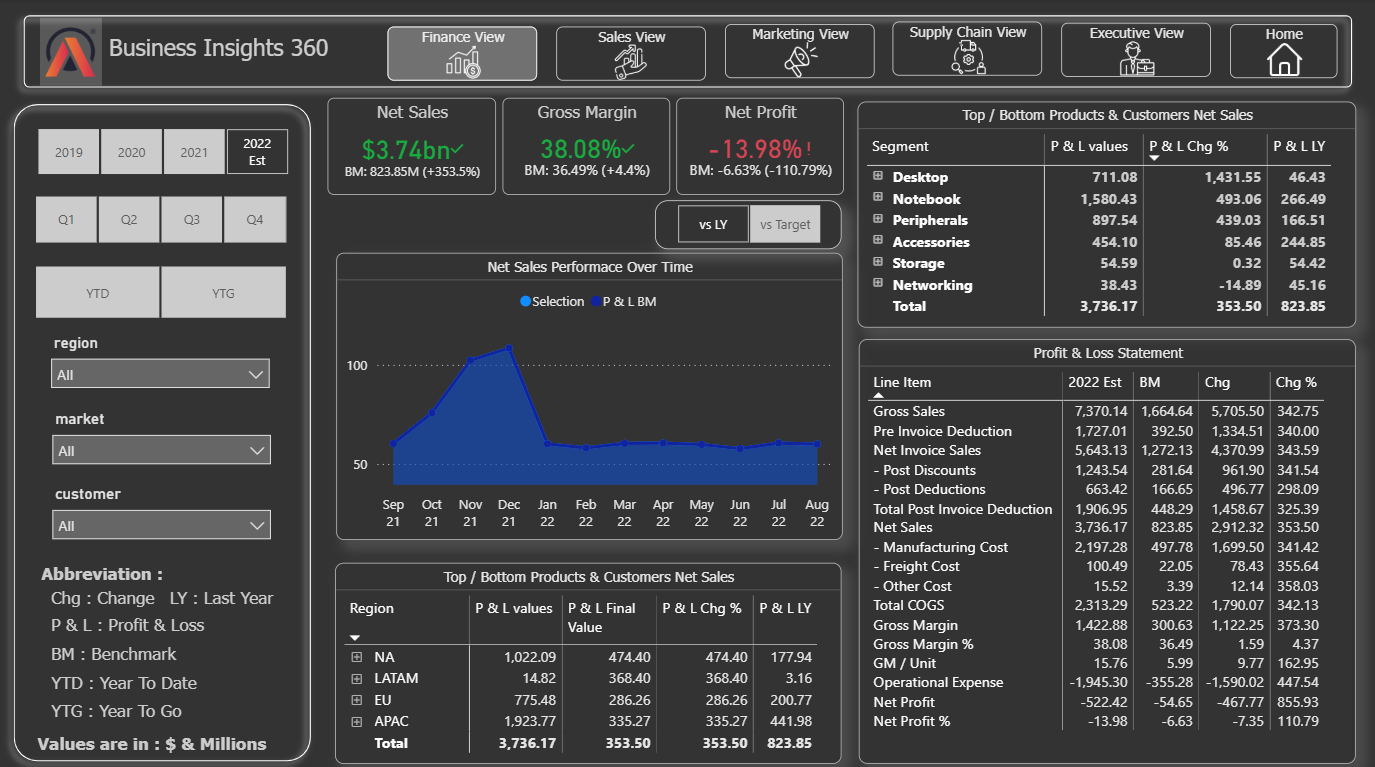

The page's visual inventory and layout, read from the dashboard file:
{"tool":"powerbi","page":{"name":"Finance View","canvas":[1280,720],"ordinal":2},"visuals":[{"type":"shape","box":[0,82.6,301.2,637.2],"z":0},{"type":"pivotTable","title":"Profit & Loss Statement","fields":{"Rows":["P & L Rows.Line Item"],"Columns":["P & L Columns.Col Header"],"Values":["Key Measures.P & L Final Value"]},"box":[798.8,316.3,462.8,395.3],"z":1000},{"type":"slicer","fields":{"Values":["fiscal_year.fy_desc"]},"box":[12.3,114.2,275.8,53.5],"z":2000},{"type":"slicer","fields":{"Values":["dim_date.quarters"]},"box":[11,176.6,275.8,56.3],"z":3000},{"type":"slicer","fields":{"Values":["dim_date.ytd_ytg"]},"box":[11,241.8,275.8,61.7],"z":4000},{"type":"areaChart","fields":{"Category":["dim_date.date"],"Y":["Key Measures.P & L LY","Key Measures.P & L BM"]},"box":[312.8,236,470.9,267.4],"z":5000},{"type":"pivotTable","title":"Top / Bottom Products & Customers Net Sales","fields":{"Rows":["dim_market.region","dim_market.market","dim_customer.customer"],"Values":["Key Measures.P & L values","Key Measures.P & L Final Value","Key Measures.P & L YoY Chg %","Key Measures.P & L LY"]},"box":[311.6,524.4,470.9,187.2],"z":6000},{"type":"pivotTable","title":"Top / Bottom Products & Customers Net Sales","fields":{"Rows":["dim_product.segment","dim_product.category","dim_product.product"],"Values":["Key Measures.P & L values","Key Measures.P & L YoY Chg %","Key Measures.P & L LY"]},"box":[797.7,95.3,464,210.5],"z":7000},{"type":"slicer","fields":{"Values":["dim_market.region"]},"box":[37,305.7,223.7,68.6],"z":8000},{"type":"shape","box":[9.3,0,1260.5,93],"z":9000},{"type":"slicer","fields":{"Values":["dim_customer.market"]},"box":[38.4,376.4,223.7,68.6],"z":10000},{"type":"slicer","fields":{"Values":["dim_customer.customer"]},"box":[38.4,447.1,223.7,68.6],"z":11000},{"type":"image","box":[37,17.8,57.6,63.1],"z":12000},{"type":"textbox","box":[96.1,26.4,241.4,44.4],"z":13000},{"type":"kpi","title":"Net Sales","fields":{"Indicator":["Key Measures.NS $"],"TrendLine":["dim_date.fiscal_year"],"Goal":["Key Measures.NS BM $"]},"box":[304.3,91.5,156.4,90.6],"z":14000},{"type":"kpi","title":"Gross Margin","fields":{"TrendLine":["dim_date.fiscal_year"],"Goal":["Key Measures.GM BM %"],"Indicator":["Key Measures.GM %"]},"box":[467.1,91.5,156,90.6],"z":15000},{"type":"kpi","title":"Net Profit","fields":{"TrendLine":["dim_date.fiscal_year"],"Goal":["Key Measures.NP BM %"],"Indicator":["Key Measures.Net Profit %"]},"box":[629.4,91.3,156,90.7],"z":16000},{"type":"image","title":"Finance View","box":[360.5,25.6,139.5,50],"z":17000},{"type":"image","title":"Marketing View","box":[674,23.3,139.5,50],"z":18000},{"type":"image","title":"Sales View","box":[517.2,25.6,139.5,50],"z":19000},{"type":"image","title":"Executive View","box":[987.4,22.1,139.5,50],"z":20000},{"type":"image","title":"Supply Chain View","box":[830.7,20.9,139.5,50],"z":21000},{"type":"shape","title":"Chg : Change","box":[48,546.1,225,22],"z":22000},{"type":"shape","title":"LY : Last Year","box":[157.8,546.1,115.3,22],"z":23000},{"type":"shape","title":"P & L : Profit & Loss","box":[48,572.6,225,22],"z":24000},{"type":"shape","title":"YTD : Year To Date","box":[47.7,625.5,225.6,22.1],"z":25000},{"type":"shape","title":"YTG : Year To Go","box":[48,652.1,225,22],"z":26000},{"type":"shape","title":"Values are in : $ & Millions","box":[34.9,682.6,225.6,29.1],"z":27000},{"type":"shape","title":"Abbreviation :","box":[38.4,524.2,225,22],"z":28000},{"type":"image","title":"Home","box":[1144.2,23.3,100,50],"z":29000},{"type":"shape","box":[360.5,25.6,139.5,50],"z":30000},{"type":"slicer","fields":{"Values":["Set BM.Benchmark"]},"box":[609.2,186.8,173.7,45.2],"z":31000},{"type":"card","fields":{"Values":["Key Measures.BM Message"]},"box":[314.1,182,292.7,53.5],"z":32000},{"type":"shape","title":"BM : Benchmark","box":[48,599.1,225,22],"z":33000}]}

Visuals, with their boxes in screenshot pixels (x1, y1, x2, y2), scaled from the page's 1280x720 canvas onto the 1375x767 screenshot:
shape: Rect(0, 88, 324, 766)
"Profit & Loss Statement" pivotTable: Rect(858, 337, 1355, 758)
slicer - fiscal_year.fy_desc: Rect(13, 122, 309, 179)
slicer - dim_date.quarters: Rect(12, 188, 308, 248)
slicer - dim_date.ytd_ytg: Rect(12, 258, 308, 323)
areaChart - dim_date.date x Key Measures.P & L LY: Rect(336, 251, 842, 536)
"Top / Bottom Products & Customers Net Sales" pivotTable: Rect(335, 559, 841, 758)
"Top / Bottom Products & Customers Net Sales" pivotTable: Rect(857, 102, 1355, 326)
slicer - dim_market.region: Rect(40, 326, 280, 399)
shape: Rect(10, 0, 1364, 99)
slicer - dim_customer.market: Rect(41, 401, 282, 474)
slicer - dim_customer.customer: Rect(41, 476, 282, 549)
image: Rect(40, 19, 102, 86)
textbox: Rect(103, 28, 363, 75)
"Net Sales" kpi: Rect(327, 97, 495, 194)
"Gross Margin" kpi: Rect(502, 97, 669, 194)
"Net Profit" kpi: Rect(676, 97, 844, 194)
"Finance View" image: Rect(387, 27, 537, 81)
"Marketing View" image: Rect(724, 25, 874, 78)
"Sales View" image: Rect(556, 27, 705, 81)
"Executive View" image: Rect(1061, 24, 1211, 77)
"Supply Chain View" image: Rect(892, 22, 1042, 76)
"Chg : Change" shape: Rect(52, 582, 293, 605)
"LY : Last Year" shape: Rect(170, 582, 293, 605)
"P & L : Profit & Loss" shape: Rect(52, 610, 293, 633)
"YTD : Year To Date" shape: Rect(51, 666, 294, 690)
"YTG : Year To Go" shape: Rect(52, 695, 293, 718)
"Values are in : $ & Millions" shape: Rect(37, 727, 280, 758)
"Abbreviation :" shape: Rect(41, 558, 283, 582)
"Home" image: Rect(1229, 25, 1337, 78)
shape: Rect(387, 27, 537, 81)
slicer - Set BM.Benchmark: Rect(654, 199, 841, 247)
card - Key Measures.BM Message: Rect(337, 194, 652, 251)
"BM : Benchmark" shape: Rect(52, 638, 293, 662)
